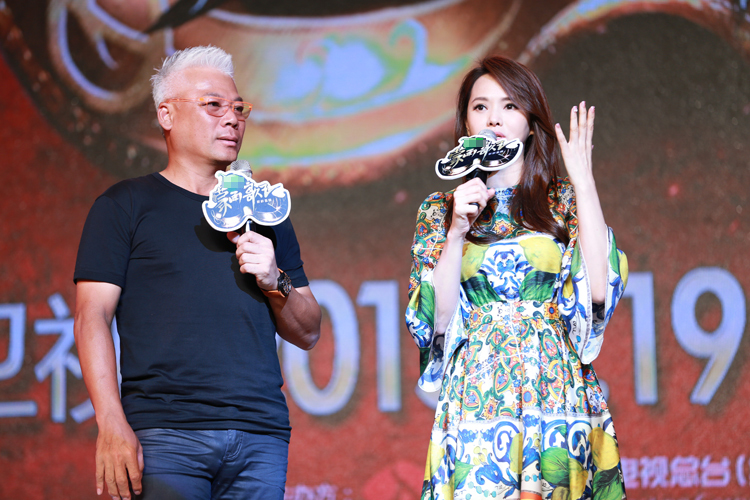face: (178, 71, 246, 164), (467, 74, 527, 154)
